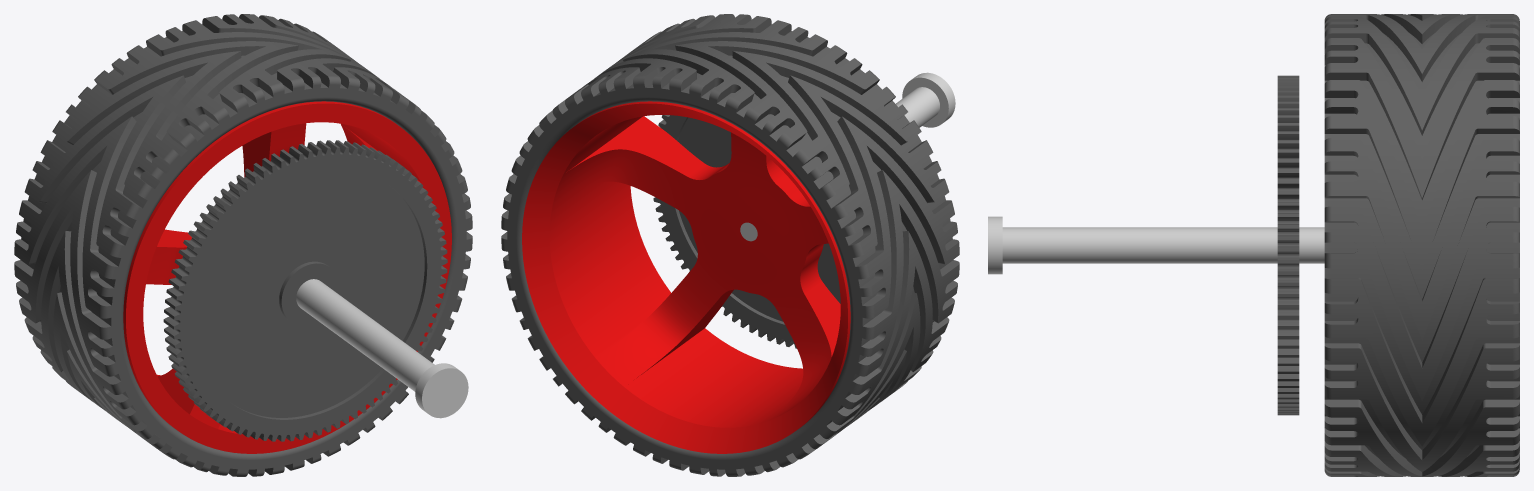
The model's file is assembly_wheel_L_back.dae.
3 renders of one model, left to right at view 1: azimuth 30°, elevation 25°; view 2: azimuth 150°, elevation 25°; view 3: azimuth 270°, elevation 25°, orthographic. The views are drawn at different scales.
Visible parts, largest first — view 1: assembly_wheel_L_back; view 2: assembly_wheel_L_back; view 3: assembly_wheel_L_back.
Boxes of the visible parts, x1,y1,x2,y2 form: assembly_wheel_L_back: [14, 14, 472, 476]; assembly_wheel_L_back: [501, 14, 959, 476]; assembly_wheel_L_back: [988, 14, 1519, 476].
Bounding box in the file's own units: 0.064 × 0.0735 × 0.064.
